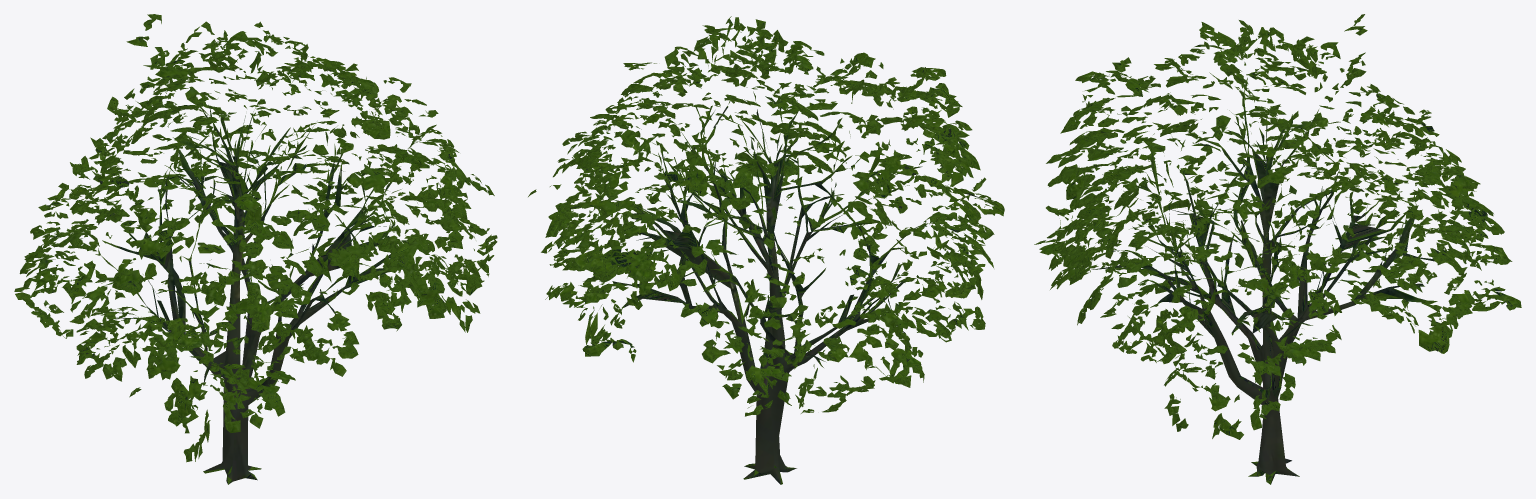
Rendered from lib_tp_muamy.near.glb.
3 renders of one model, left to right at view 1: azimuth 30°, elevation 25°; view 2: azimuth 150°, elevation 25°; view 3: azimuth 270°, elevation 25°, orthographic.
Size of the model in its own units: 1.83 by 1.87 by 1.89.
Materials: 1 (1 with a texture image).
